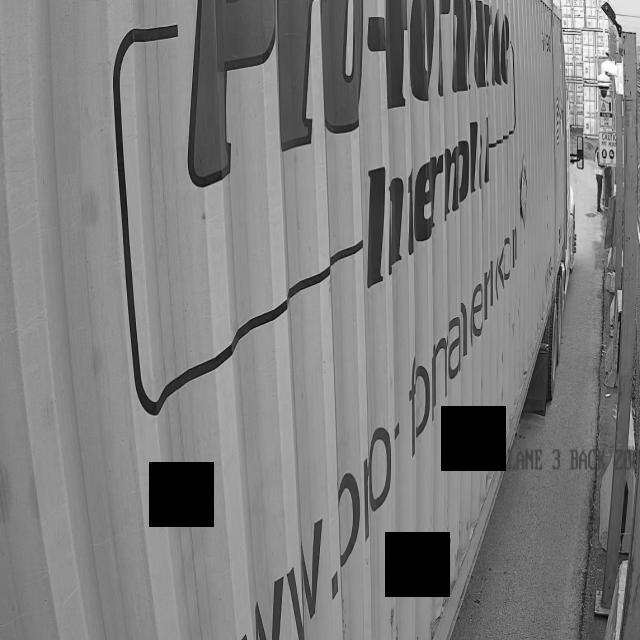truck_with_container: (0, 0, 576, 640), (0, 0, 572, 640), (529, 169, 576, 413), (541, 184, 576, 400)
